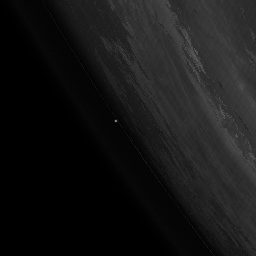Target: (113, 119, 117, 123)
